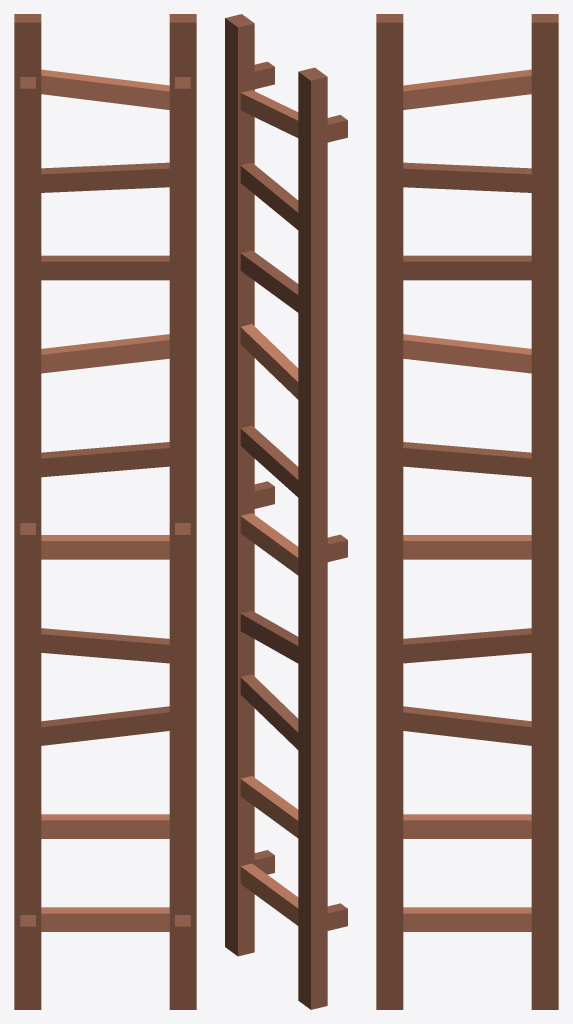
Rendered from Ladder A.fbx.
The picture shows the model from 3 angles, left to right: view 1: azimuth 90°, elevation 25°; view 2: azimuth 210°, elevation 25°; view 3: azimuth 270°, elevation 25°; orthographic projection. The views are drawn at different scales.
Visible parts, largest first — view 1: Ladder A; view 2: Ladder A; view 3: Ladder A.
Boxes of the visible parts, x1,y1,x2,y2 form: Ladder A: [14, 14, 196, 1009]; Ladder A: [225, 14, 347, 1009]; Ladder A: [376, 14, 558, 1009].
Size of the model in its own units: 30.49 by 682 by 114.
